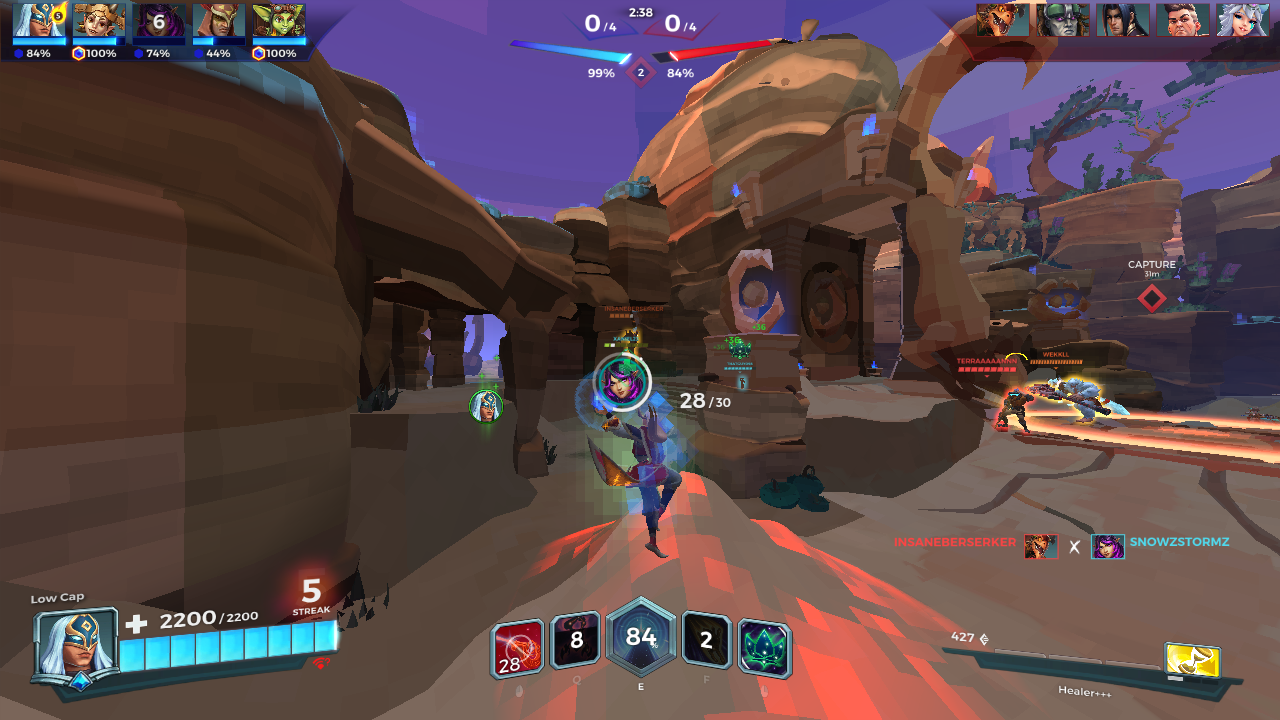model: (1036, 371, 1106, 429), (994, 385, 1028, 430), (623, 327, 640, 356)
